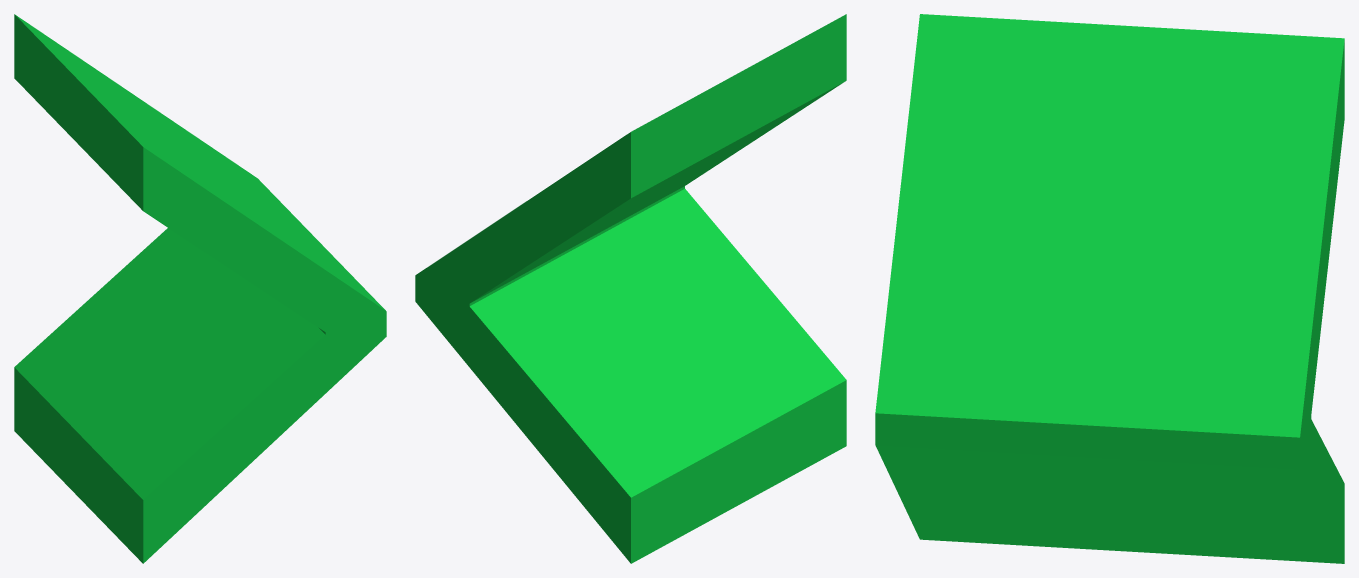
File: Arrow.fbx
3 renders of one model, left to right at view 1: azimuth 30°, elevation 25°; view 2: azimuth 150°, elevation 25°; view 3: azimuth 270°, elevation 25°, orthographic. The views are drawn at different scales.
Visible parts, largest first — view 1: node_id38; view 2: node_id38; view 3: node_id38.
Part boxes in pixels (bbox=[...]): node_id38: bbox=[14, 14, 386, 563]; node_id38: bbox=[415, 14, 846, 563]; node_id38: bbox=[875, 14, 1344, 563].
Bounding box in the file's own units: 0.0312 × 0.0469 × 0.0379.
